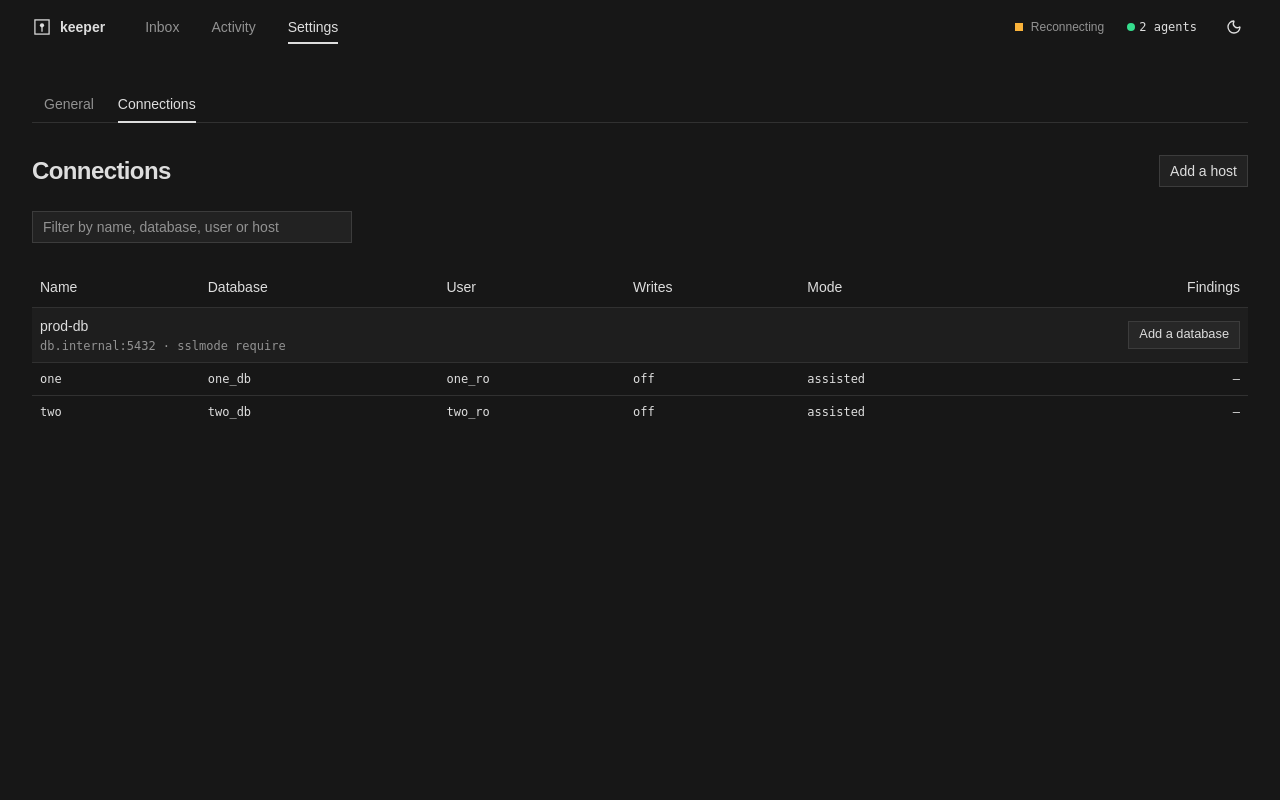
it: the shell › SHELL-C2 the agents indicator counts and lists connected agents
Click the button "2 agents". click: (1162, 27)
box: [1116,13,1208,41]
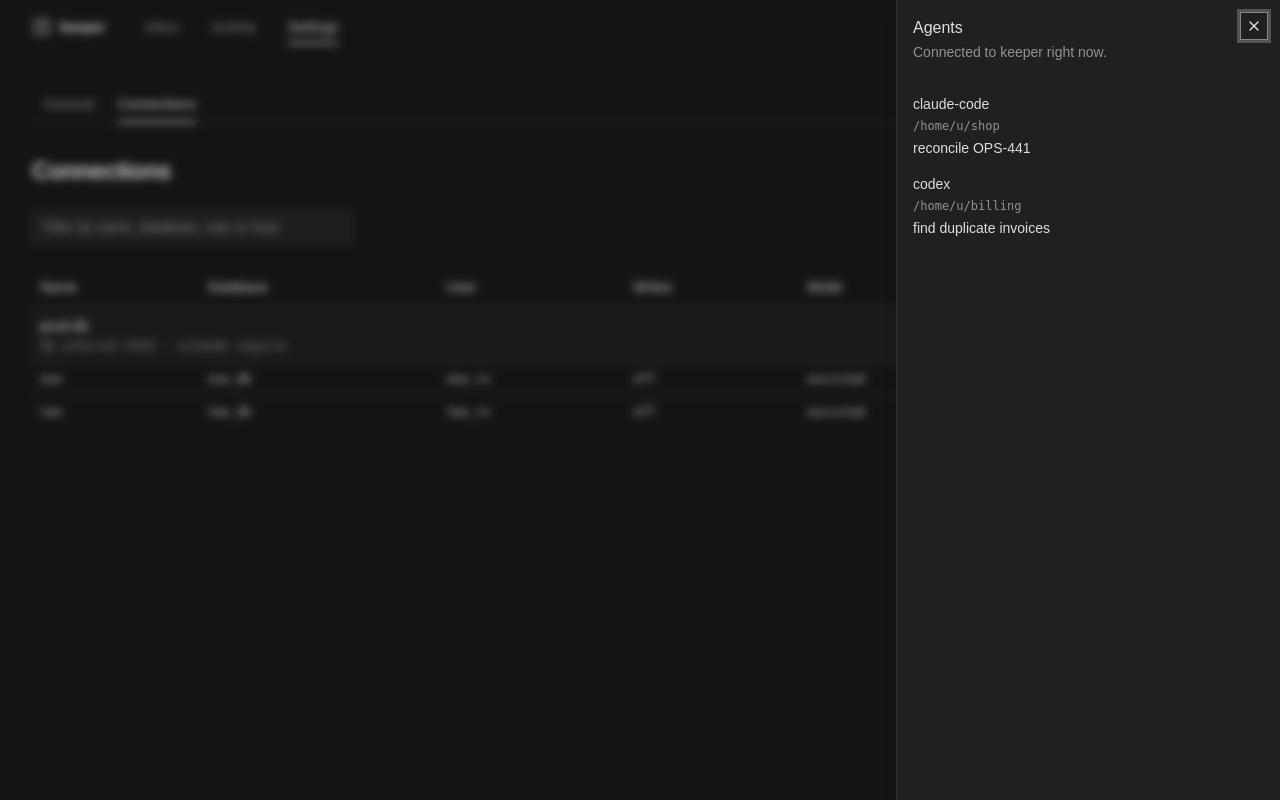
Result: the text "/home/u/shop" is shown at [913,119,1000,133]
Result: the text "find duplicate invoices" is shown at [913,220,1050,236]
